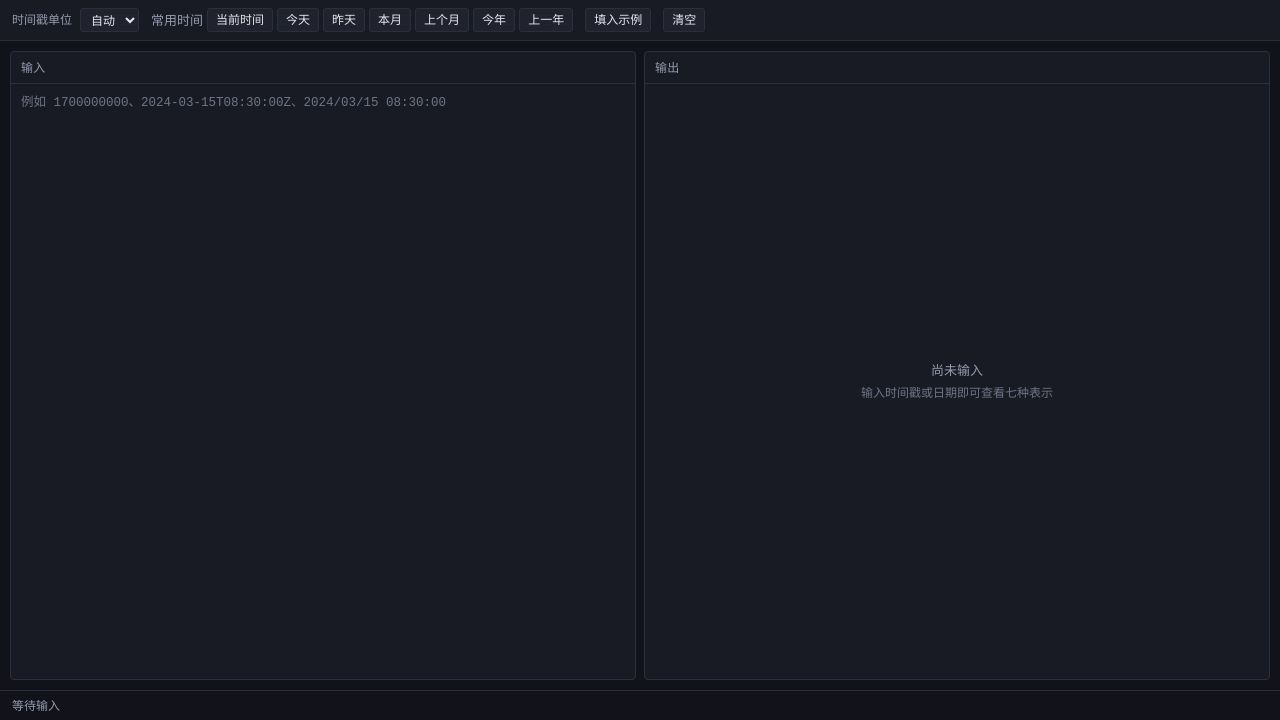
Test: 日期转换器工具 › 歧义数字输入展示判定依据与提示
Type "20240315" into the text box named "日期或时间戳" at (323, 150), box [11,84,635,216]
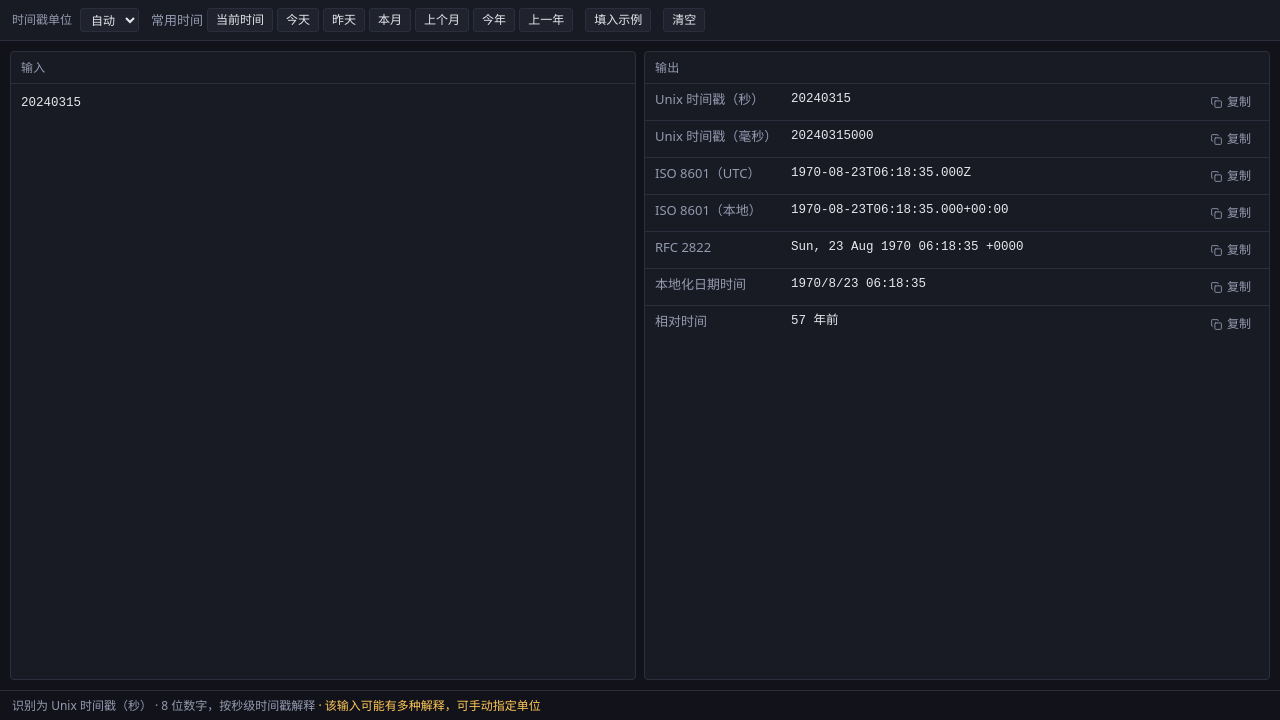
Check: the text "识别为 Unix 时间戳（秒） · 8 位数字，按秒级时间戳解释 · 该输入可能有多种解释，可手动指定单位" is shown, box [12,697,541,714]
Check: the text "· 该输入可能有多种解释，可手动指定单位" is shown, box [315,697,541,714]
